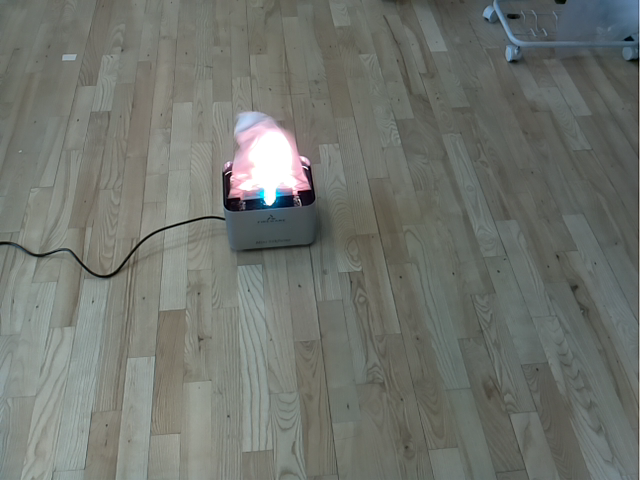fire: (228, 112, 312, 199)
